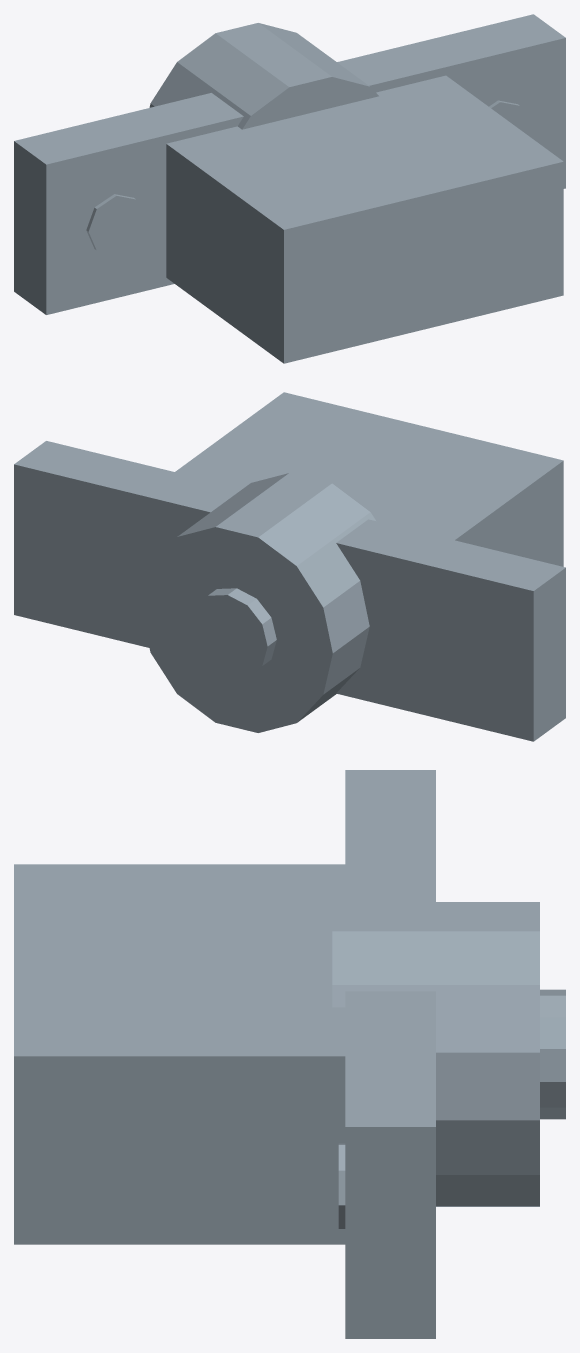
File: bearing_ucp204.glb
3 renders of one model, top to bottom at view 1: azimuth 30°, elevation 25°; view 2: azimuth 150°, elevation 25°; view 3: azimuth 270°, elevation 25°, orthographic. The views are drawn at different scales.
Parts seen in each view (by area): view 1: RootNode; view 2: RootNode; view 3: RootNode.
Part boxes in pixels (x1,y1,x2,y2): RootNode: (14,14,565,363); RootNode: (14,392,565,741); RootNode: (14,770,565,1338).
Bounding box in the file's own units: 0.13 × 0.0468 × 0.085.
